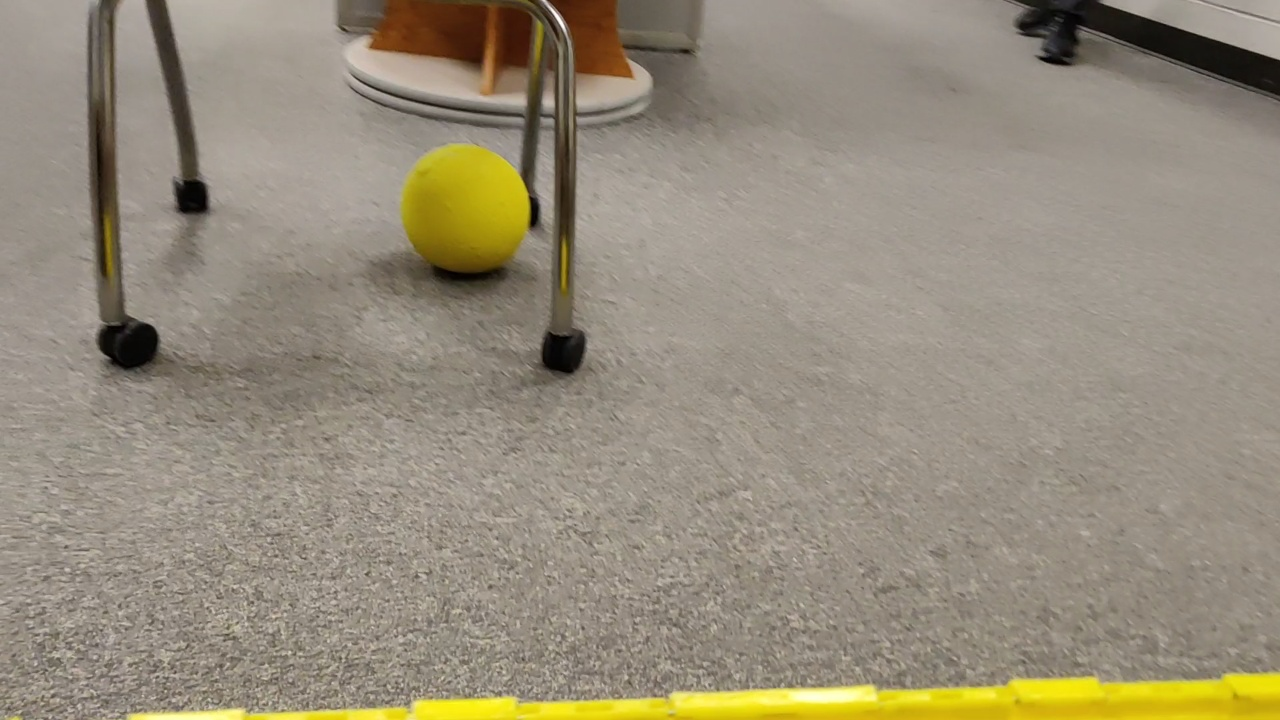Ball: (403, 143, 526, 280)
